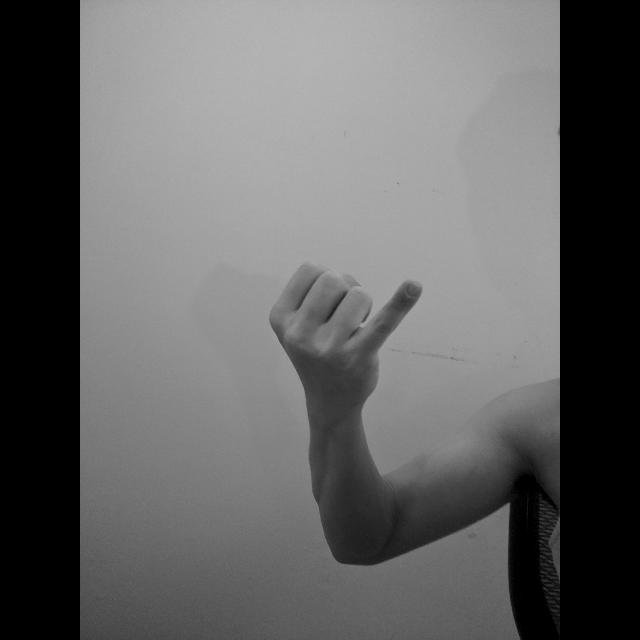J: (264, 253, 430, 414)
